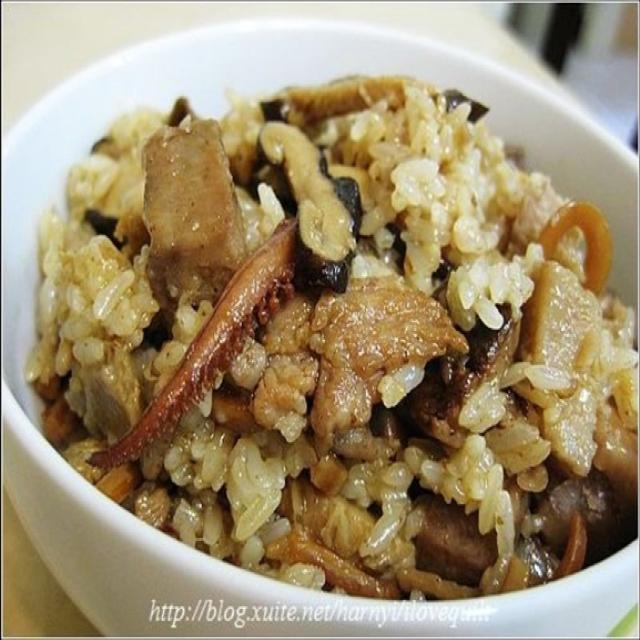米饭主食: (25, 48, 629, 608)
